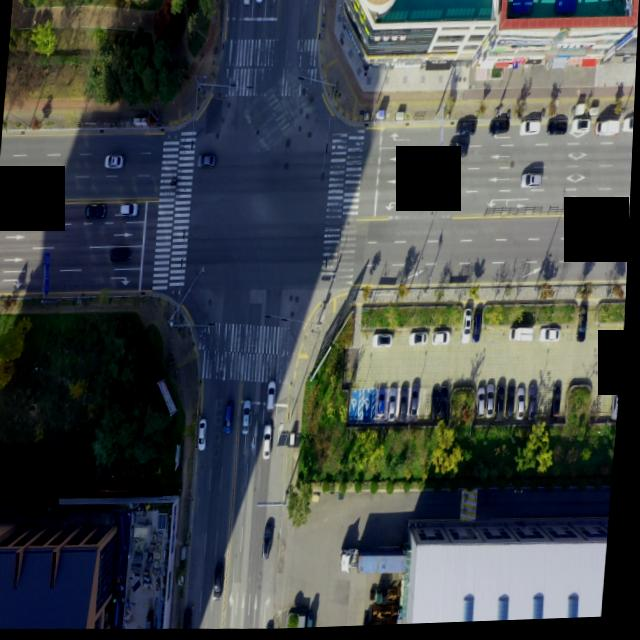car: (265, 521, 277, 561), (217, 565, 229, 601), (580, 309, 591, 347), (411, 385, 423, 419), (86, 202, 108, 220), (465, 312, 476, 348), (401, 385, 412, 421), (531, 386, 541, 425), (374, 334, 395, 352), (110, 245, 132, 262), (499, 386, 509, 423), (266, 426, 276, 462), (542, 330, 563, 347), (486, 386, 497, 418), (391, 389, 401, 424), (197, 154, 217, 171), (121, 201, 141, 218), (105, 154, 125, 171), (474, 314, 484, 348), (553, 386, 563, 420), (517, 389, 527, 422), (246, 402, 256, 435), (490, 123, 509, 140), (570, 122, 590, 138), (199, 421, 209, 453), (411, 334, 430, 350), (522, 176, 542, 191), (521, 124, 541, 139), (548, 125, 568, 140), (431, 389, 441, 419), (507, 388, 517, 418), (615, 388, 623, 425), (442, 386, 450, 423), (268, 384, 278, 413), (478, 389, 488, 418), (435, 333, 453, 349), (450, 146, 468, 162), (227, 403, 236, 435), (457, 125, 475, 139), (186, 608, 197, 630), (622, 120, 635, 137), (379, 397, 388, 419), (242, 0, 250, 6), (252, 0, 261, 5)
large_truck: (342, 549, 414, 579)
small_truck: (510, 330, 536, 347), (596, 123, 620, 141)
